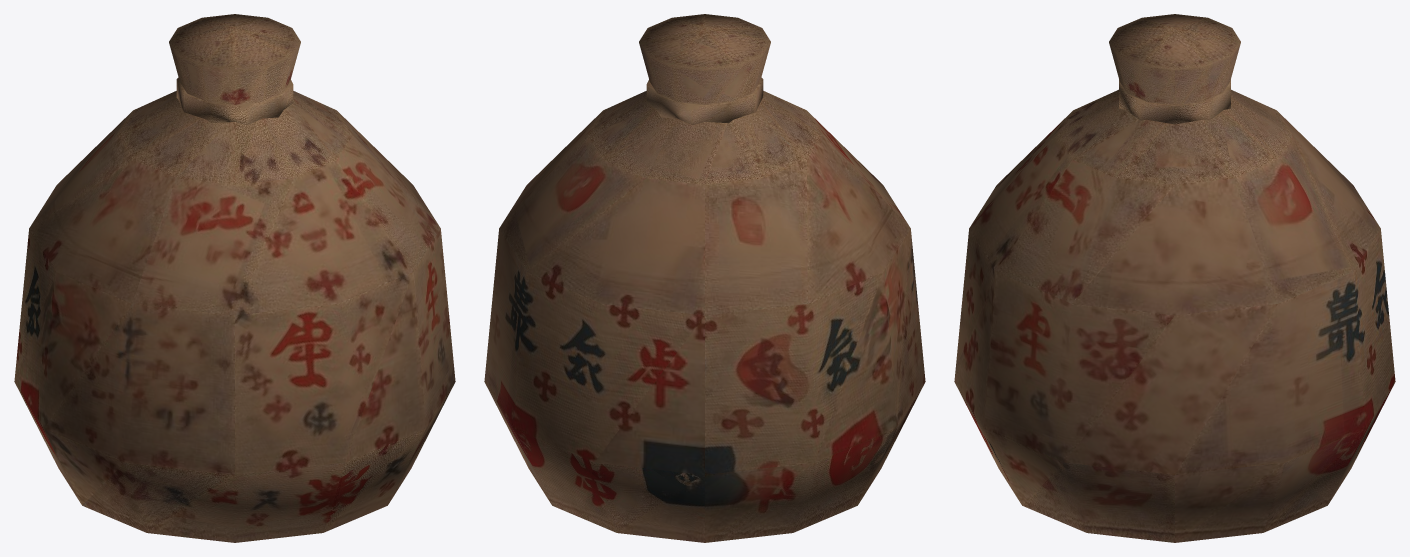
Rendered from sack_grain.glb.
The picture shows the model from 3 angles, left to right: view 1: azimuth 30°, elevation 25°; view 2: azimuth 150°, elevation 25°; view 3: azimuth 270°, elevation 25°; orthographic projection.
Parts seen in each view (by area): view 1: sack_grain; view 2: sack_grain; view 3: sack_grain.
Boxes of the visible parts, x1,y1,x2,y2 form: sack_grain: [14, 14, 455, 542]; sack_grain: [484, 14, 925, 542]; sack_grain: [954, 14, 1395, 542].
Bounding box in the file's own units: 0.6 × 0.68 × 0.6.
Materials: 1 (1 with a texture image).
